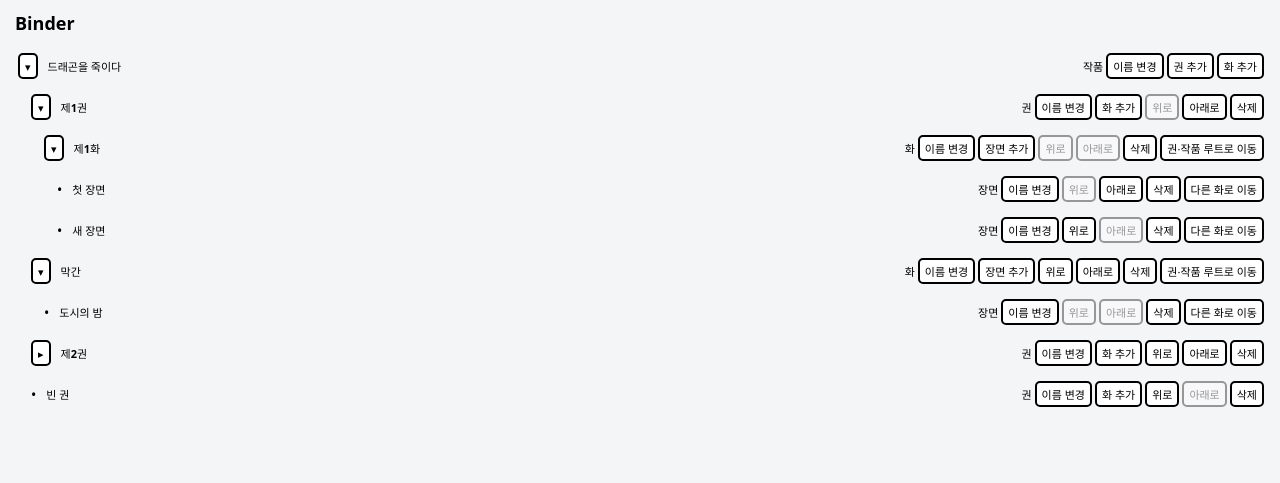
Phase 1A Binder › moves a scene to the selected chapter chapter-direct, including another volume
The image size is (1280, 483).
Click the button with aria-label "첫 장면 다른 화로 이동" at [1224, 189], box top-left (1184, 176), bottom-right (1264, 202)
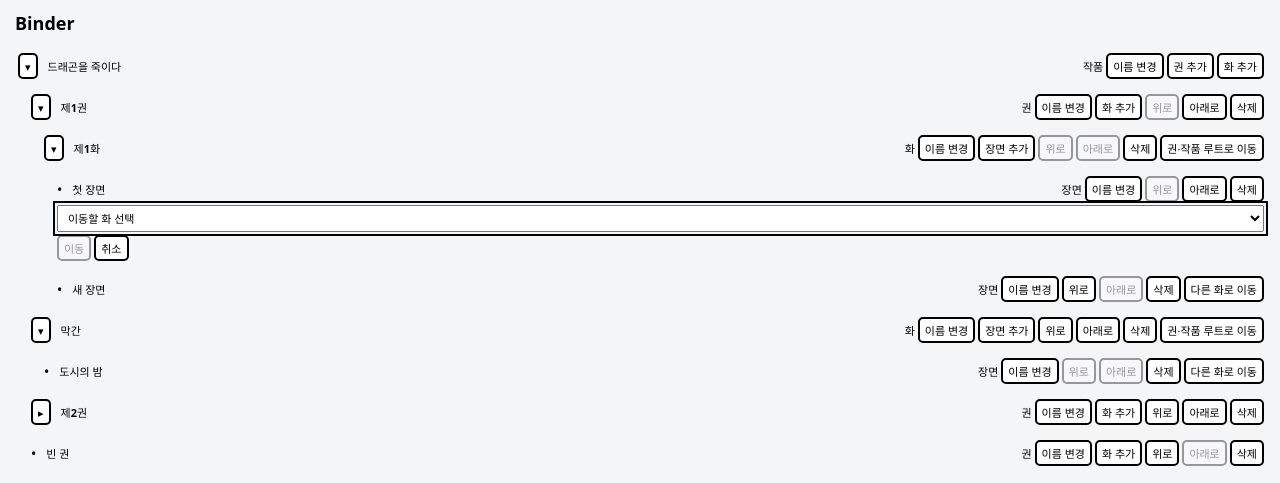
Expected: the button "이동" is disabled, top-left (57, 235), bottom-right (91, 261)
Select "드래곤을 죽이다 / 막간" in the dropdown named "첫 장면 이동할 화" at [660, 218], box top-left (57, 205), bottom-right (1264, 232)
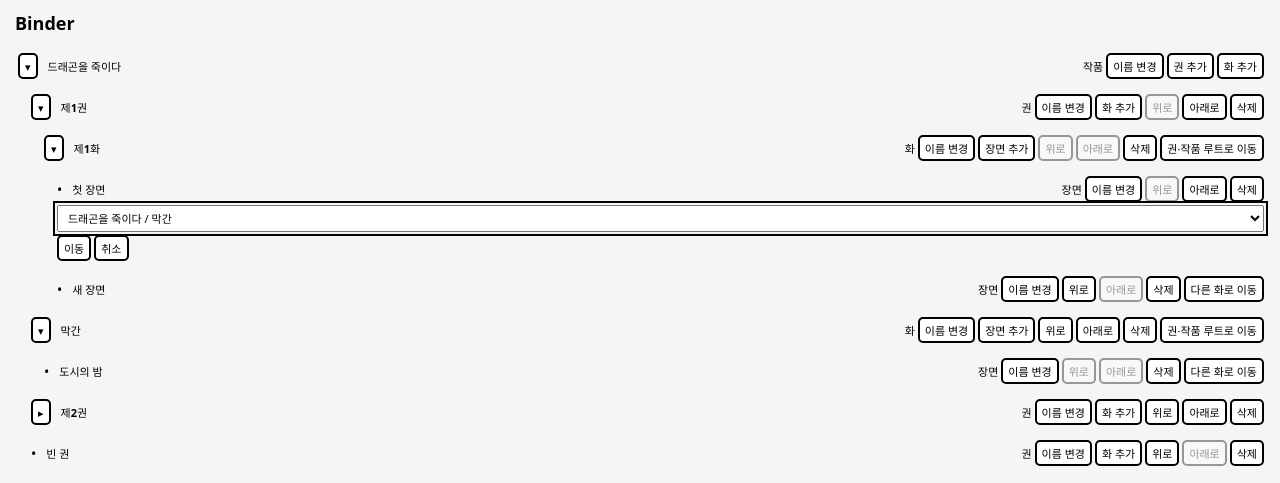
Click the button "이동" at [74, 248], box top-left (57, 235), bottom-right (91, 261)
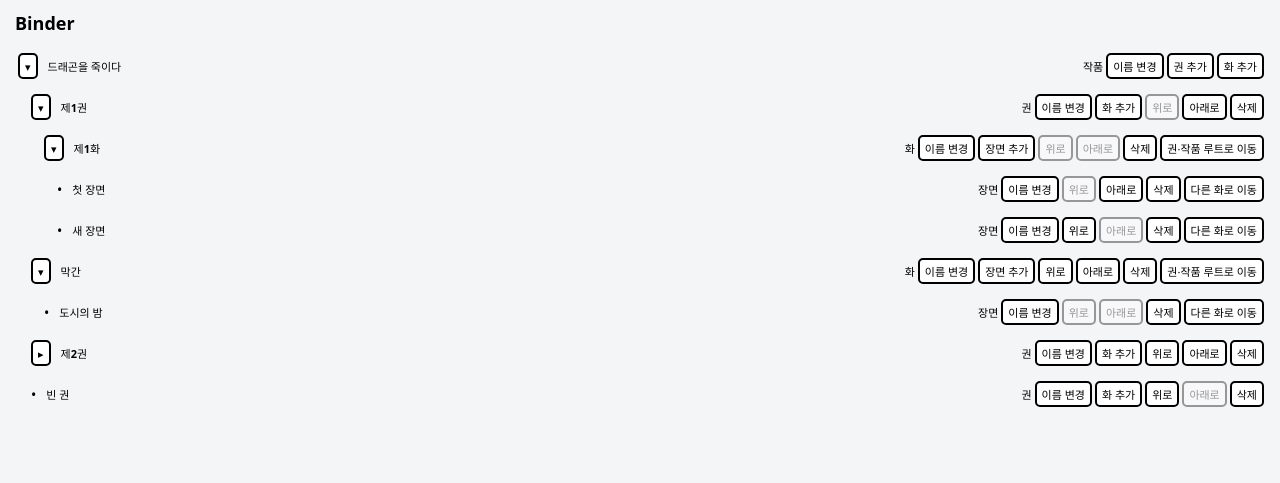
Result: the dropdown is gone
